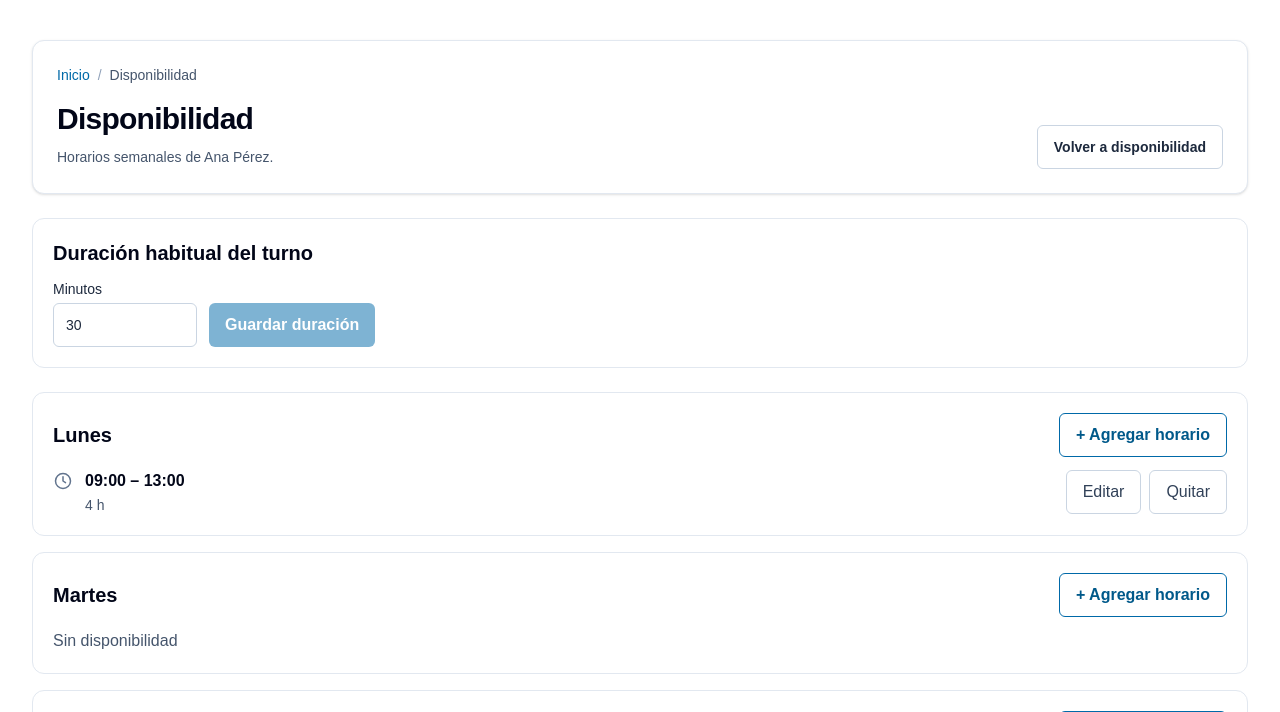
Scenario: AvailabilityScreen › confirms removal visually, handles stale and refreshes
The image size is (1280, 712).
Click the button "Quitar": (1188, 492) [1149,470,1227,514]
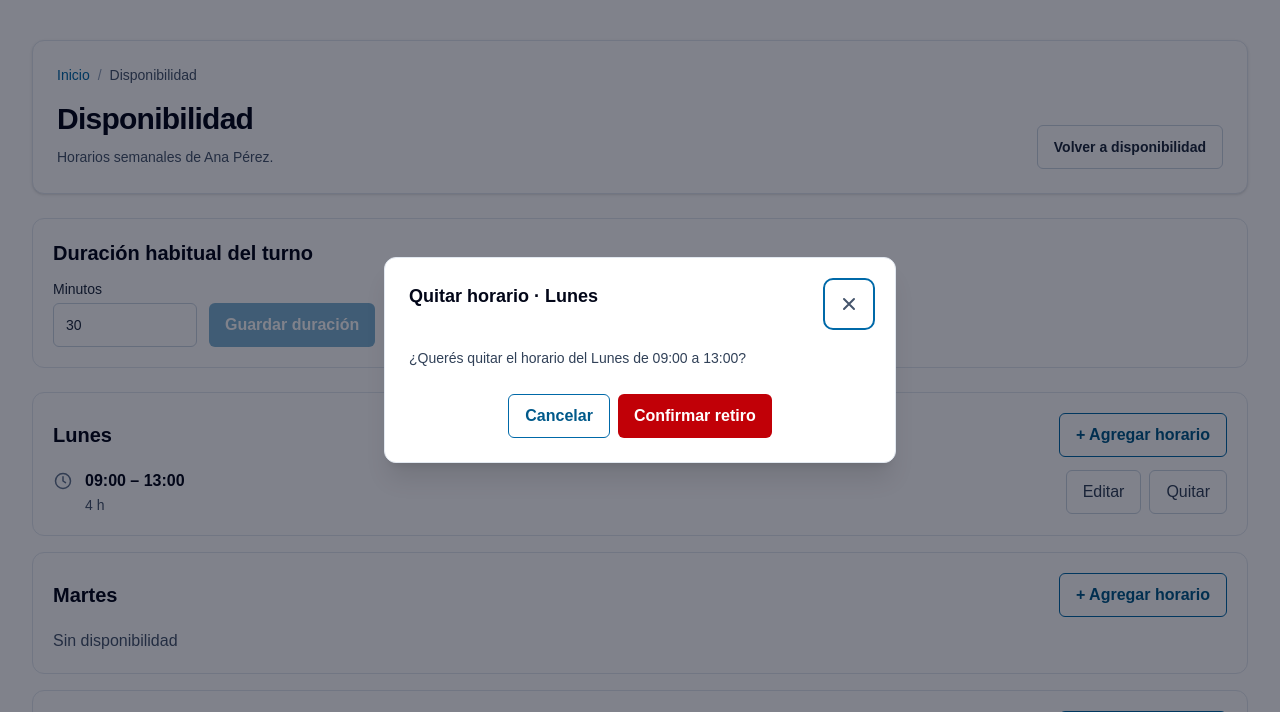
Result: the dialog "Quitar horario · Lunes" shows "Lunes de 09:00 a 13:00" at [384,257,896,463]
Click the button "Confirmar retiro": (695, 416) [618,394,772,438]
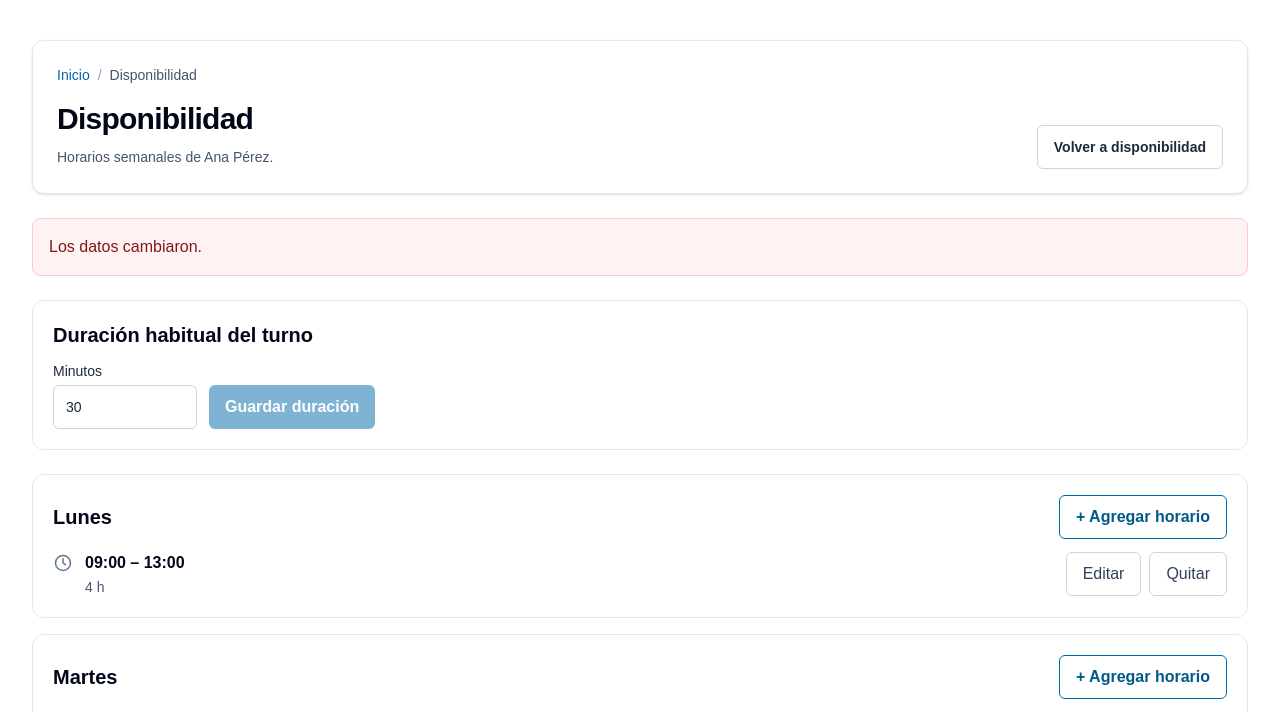
Result: the message shows "Los datos cambiaron" at [49,238,202,255]
